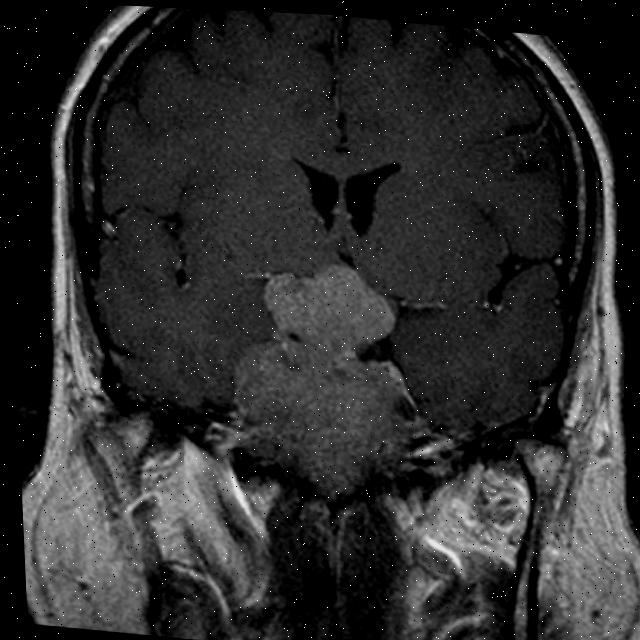Pituitary: (225, 335, 426, 487), (256, 255, 402, 352)
